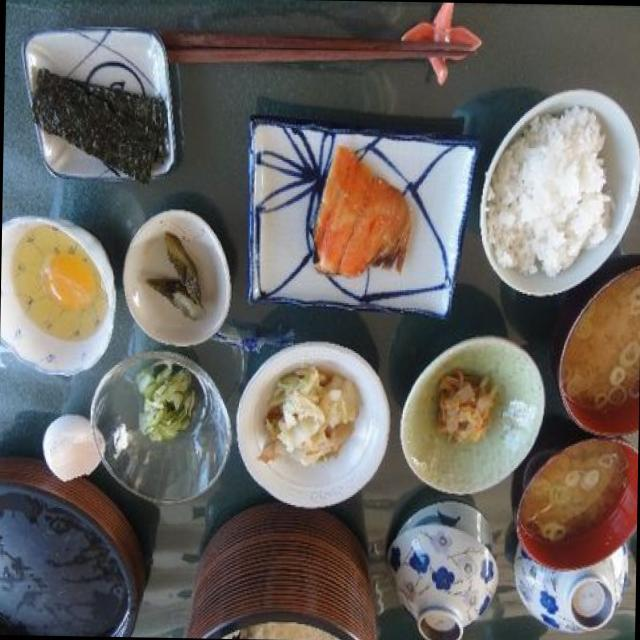Rice: (499, 122, 604, 268)
